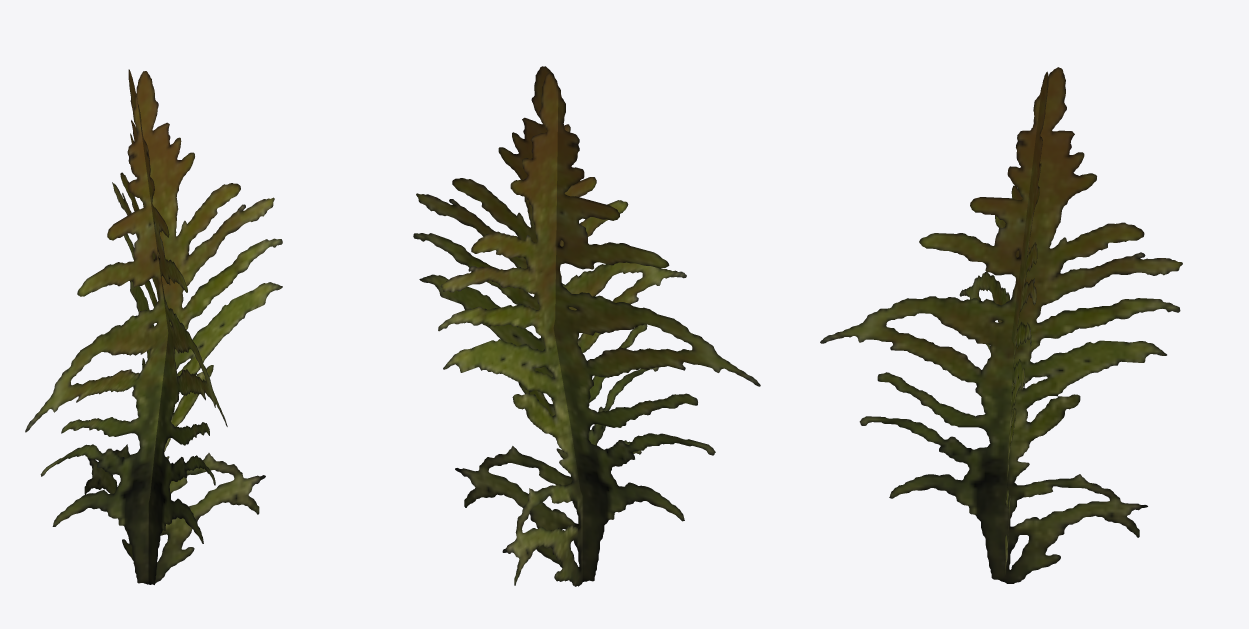
The model's file is Moss_02.fbx.
3 renders of one model, left to right at view 1: azimuth 30°, elevation 25°; view 2: azimuth 150°, elevation 25°; view 3: azimuth 270°, elevation 25°, orthographic. The views are drawn at different scales.
Parts seen in each view (by area): view 1: Moss_02; view 2: Moss_02; view 3: Moss_02.
Boxes of the visible parts, bbox=[...] form: Moss_02: bbox=[25, 69, 282, 584]; Moss_02: bbox=[413, 66, 760, 586]; Moss_02: bbox=[820, 67, 1182, 583].
Size of the model in its own units: 0.0515 by 0.08 by 0.0516.
Materials: 1 (1 with a texture image).
